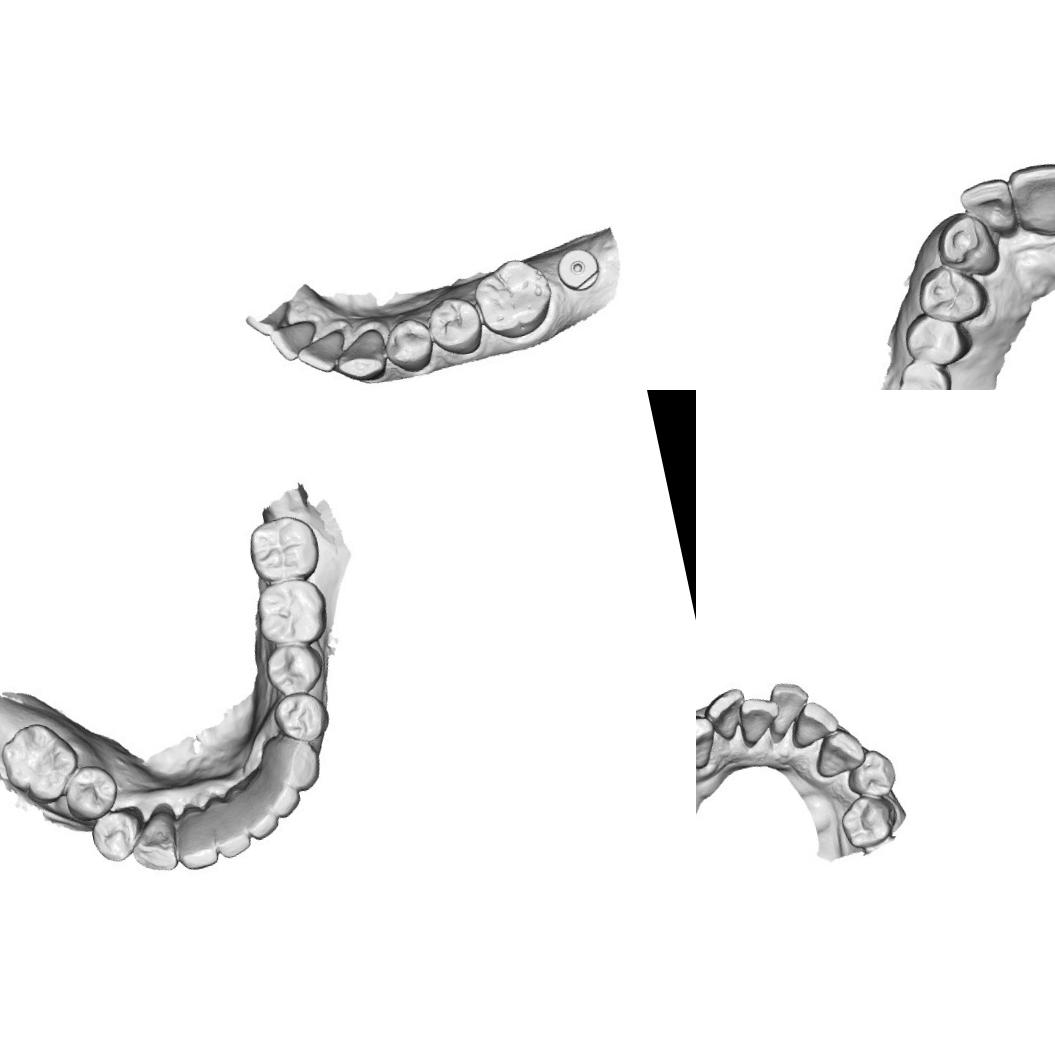canine: (933, 210, 1002, 283), (262, 728, 328, 798), (330, 329, 396, 387), (807, 724, 868, 781), (134, 806, 182, 871), (696, 705, 723, 778)
implant: (552, 241, 604, 294)
incisor: (958, 171, 1021, 242), (168, 801, 224, 876), (204, 789, 256, 864), (1007, 155, 1055, 234), (234, 782, 287, 846), (250, 770, 302, 824), (705, 684, 750, 744), (763, 682, 813, 736), (298, 331, 348, 382), (268, 318, 318, 363), (737, 698, 782, 748), (790, 702, 836, 746)
molar: (469, 251, 558, 346), (0, 712, 85, 810), (244, 509, 324, 589), (250, 574, 328, 651)
premolar: (910, 257, 992, 331), (898, 306, 972, 374), (260, 639, 328, 704), (57, 762, 123, 826), (836, 791, 903, 854), (427, 290, 487, 358), (268, 686, 330, 746), (382, 315, 438, 380), (87, 806, 146, 864), (887, 352, 958, 390), (846, 748, 895, 797)
